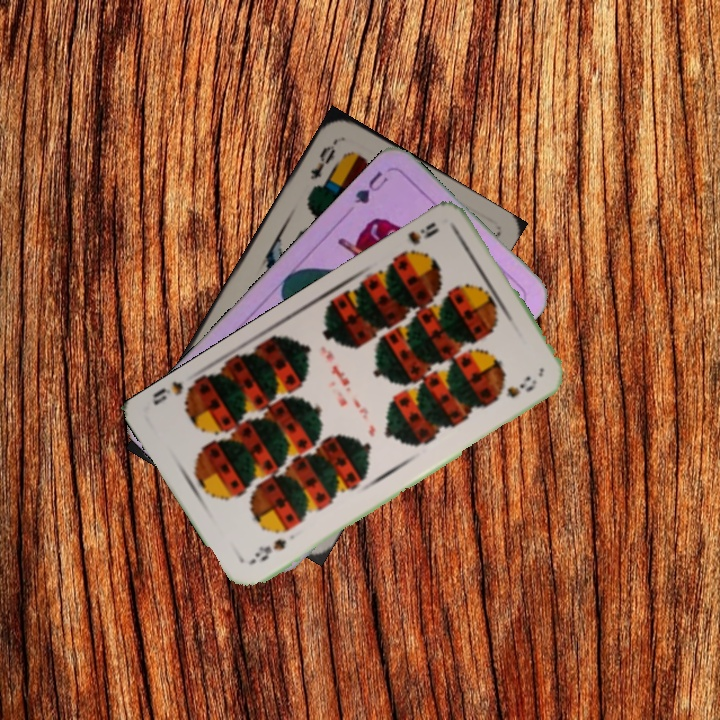EO: (305, 136, 340, 182)
GU: (350, 167, 391, 207)
S9: (394, 218, 442, 262), (250, 534, 289, 564)
